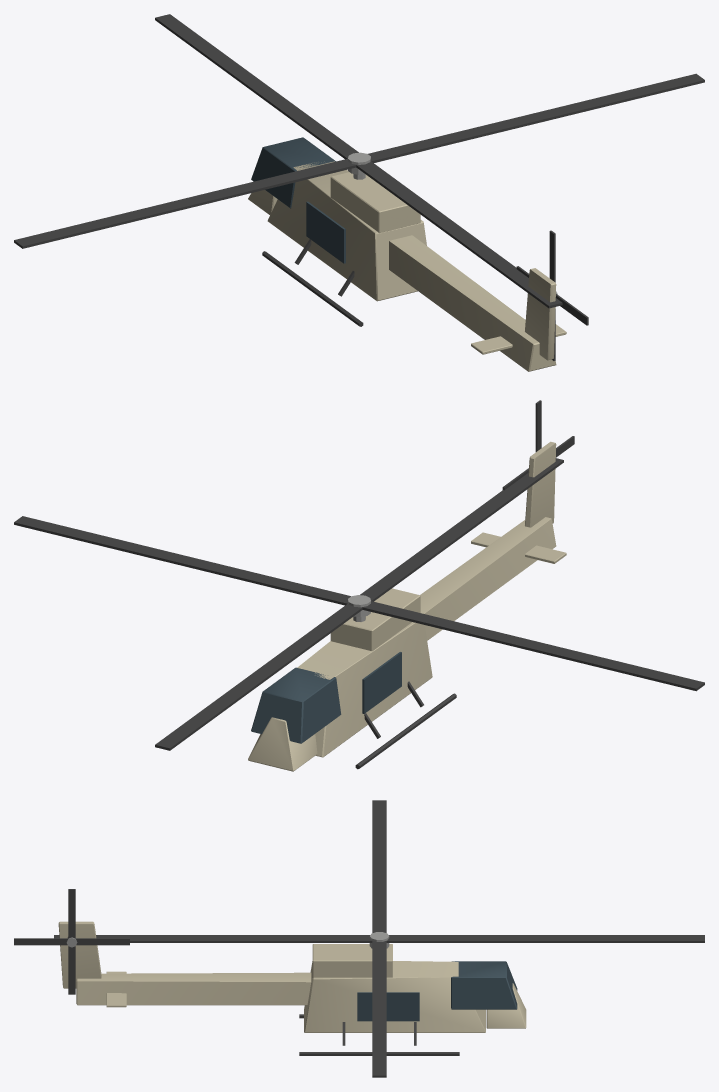
Rendered from usa_heli_uh1y.glb.
The picture shows the model from 3 angles, top to bottom: view 1: azimuth 30°, elevation 25°; view 2: azimuth 150°, elevation 25°; view 3: azimuth 270°, elevation 25°; orthographic projection. The views are drawn at different scales.
Parts seen in each view (by area): view 1: body, rotor, trotor; view 2: body, rotor, trotor; view 3: body, rotor, trotor.
Boxes of the visible parts, <box> form: body: <box>248,137,566,371</box>; rotor: <box>14,14,704,308</box>; trotor: <box>516,230,588,360</box>; body: <box>248,441,566,771</box>; rotor: <box>14,458,704,750</box>; trotor: <box>502,400,574,490</box>; body: <box>58,921,526,1055</box>; rotor: <box>54,800,704,1077</box>; trotor: <box>14,889,129,994</box>.
Size of the model in its own units: 14.6 by 3.73 by 15.5.
